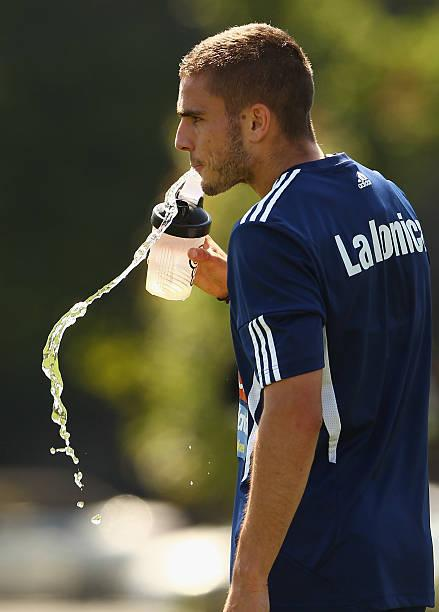Spitting: (100, 0, 337, 247)
